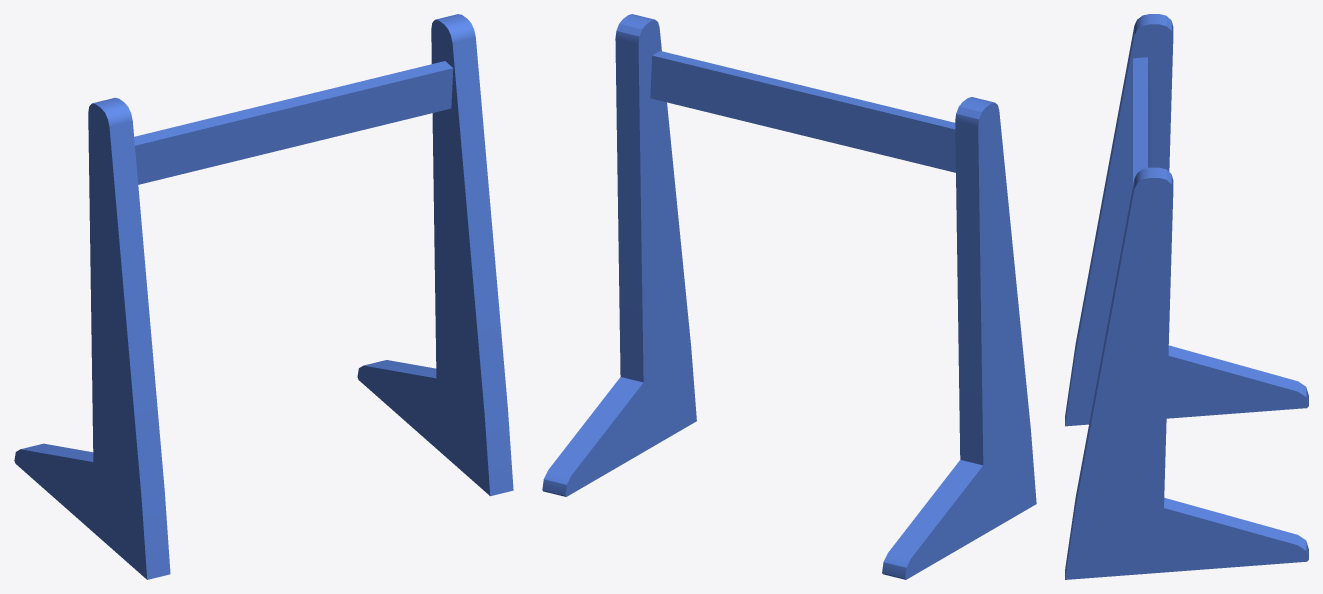
File: RAck stand.fbx
3 renders of one model, left to right at view 1: azimuth 30°, elevation 25°; view 2: azimuth 150°, elevation 25°; view 3: azimuth 270°, elevation 25°, orthographic. The views are drawn at different scales.
Parts seen in each view (by area): view 1: Multiface_pippete_scene_Multiface_pippete_scene_pCube1, Multiface_pippete_scene_Multiface_pippete_scene_pCube2, Multiface_pippete_scene_Multiface_pippete_scene_pCube3; view 2: Multiface_pippete_scene_Multiface_pippete_scene_pCube1, Multiface_pippete_scene_Multiface_pippete_scene_pCube2, Multiface_pippete_scene_Multiface_pippete_scene_pCube3; view 3: Multiface_pippete_scene_Multiface_pippete_scene_pCube2, Multiface_pippete_scene_Multiface_pippete_scene_pCube1, Multiface_pippete_scene_Multiface_pippete_scene_pCube3.
Boxes of the visible parts, x1,y1,x2,y2 form: Multiface_pippete_scene_Multiface_pippete_scene_pCube1: (14,97,170,579); Multiface_pippete_scene_Multiface_pippete_scene_pCube2: (357,14,513,496); Multiface_pippete_scene_Multiface_pippete_scene_pCube3: (134,61,453,184); Multiface_pippete_scene_Multiface_pippete_scene_pCube1: (882,97,1036,579); Multiface_pippete_scene_Multiface_pippete_scene_pCube2: (542,14,696,496); Multiface_pippete_scene_Multiface_pippete_scene_pCube3: (650,51,955,172); Multiface_pippete_scene_Multiface_pippete_scene_pCube2: (1065,167,1308,579); Multiface_pippete_scene_Multiface_pippete_scene_pCube1: (1065,14,1308,426); Multiface_pippete_scene_Multiface_pippete_scene_pCube3: (1133,57,1151,185).
Bounding box in the file's own units: 34.32 × 39.22 × 21.56.
